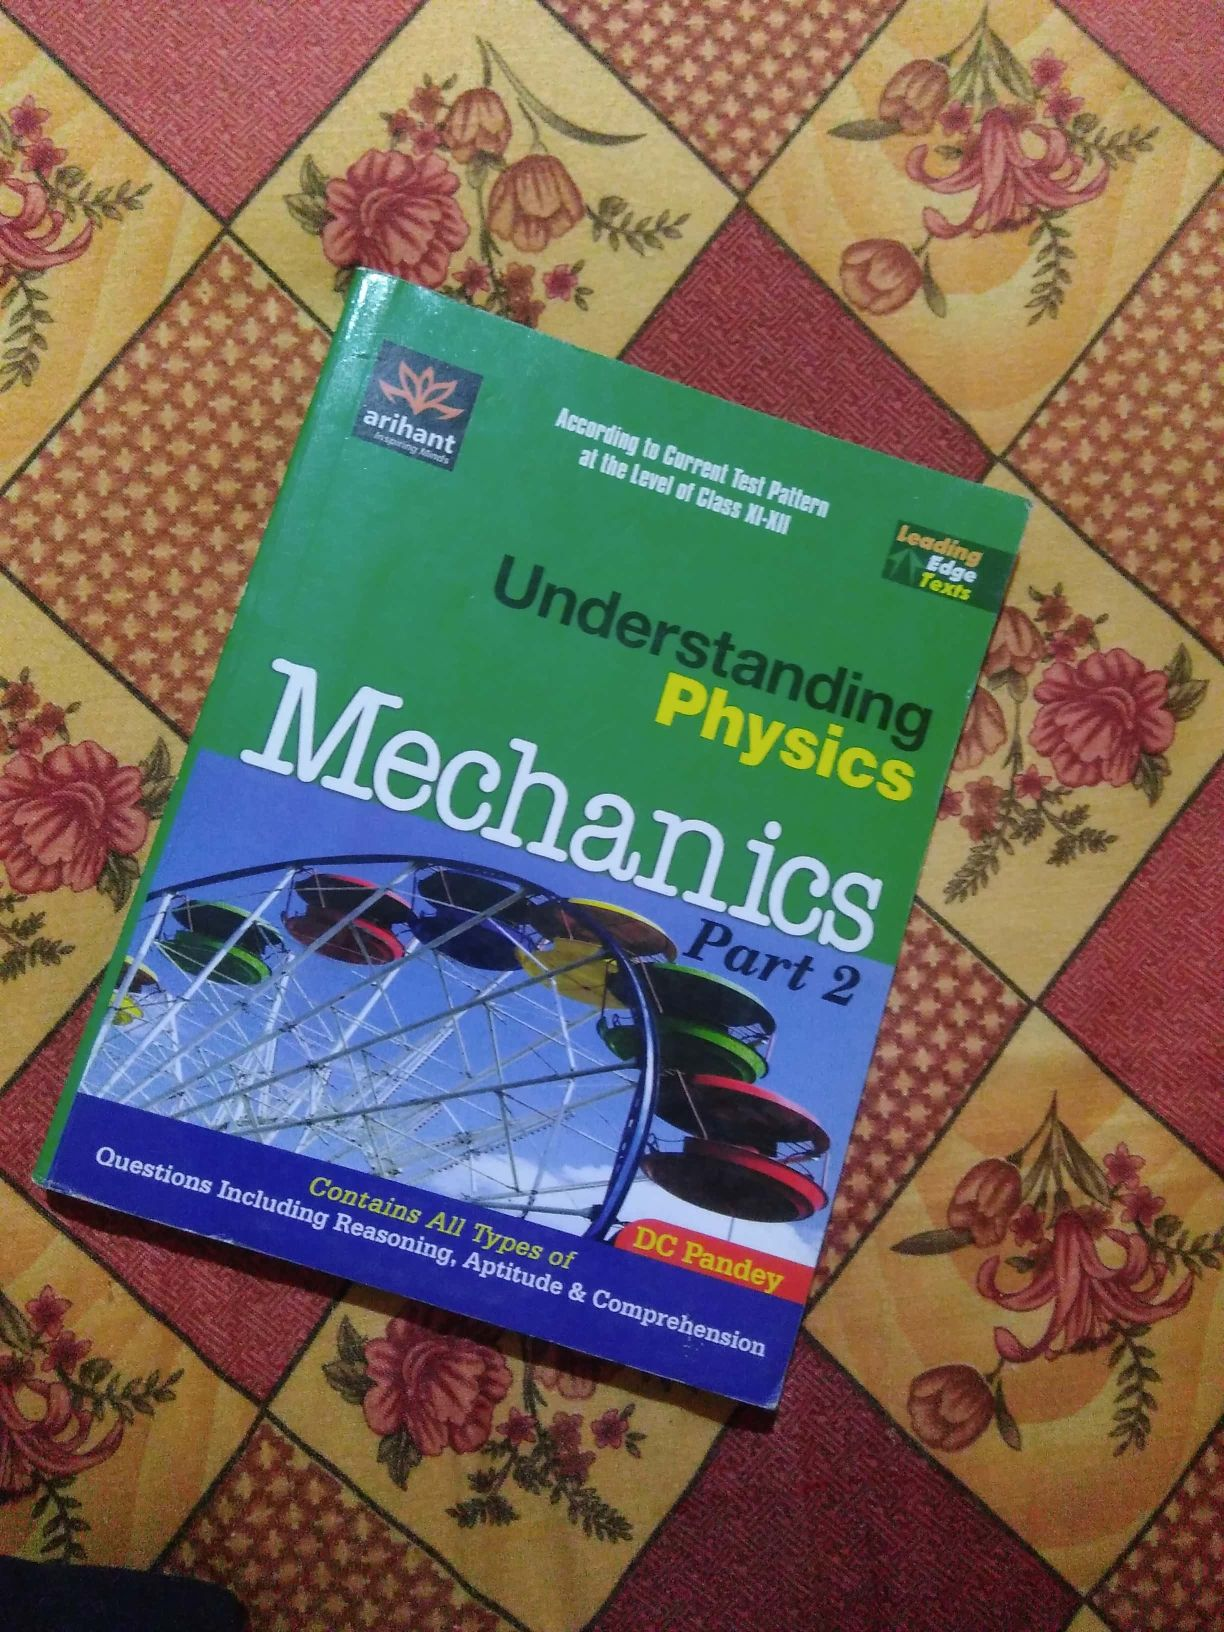mechanics: (80, 254, 1059, 1466)
